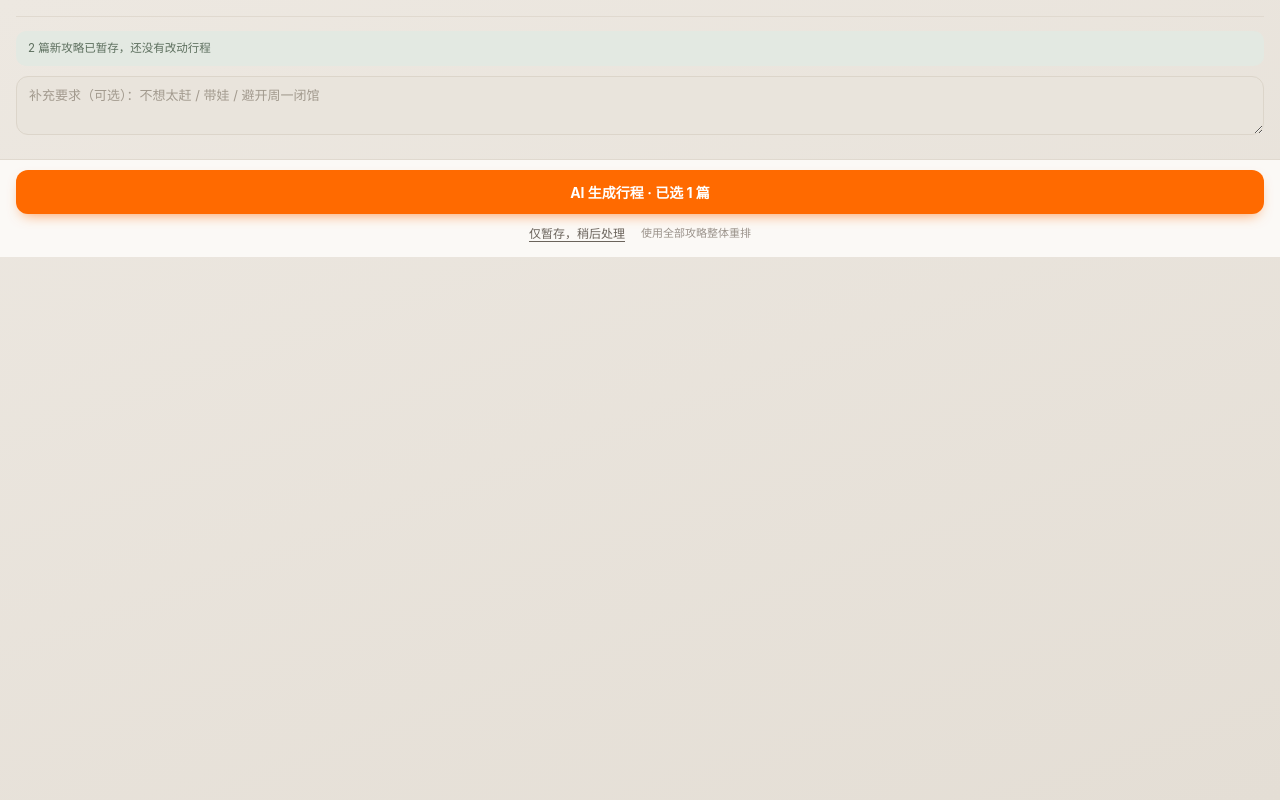
Scenario: GuideDraftPanel 次级整体重排（能力保留） › 点击先二次确认：说明素材边界，取消不发请求
Click the button "使用全部攻略整体重排".
click(696, 232)  # box [641,222,751,242]
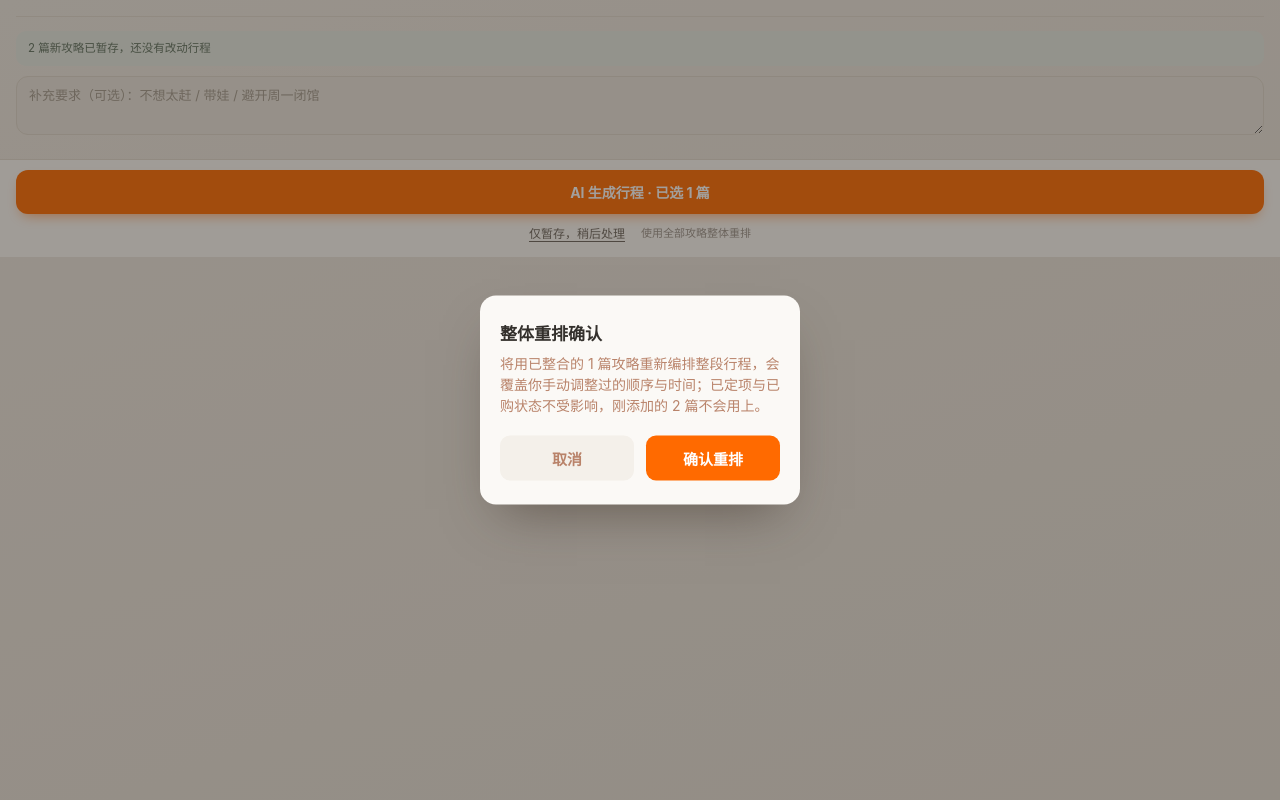
Result: the dialog "整体重排确认" shows "已整合的 1 篇攻略" at [500,354,780,414]
Result: the dialog "整体重排确认" shows "刚添加的 2 篇不会用上" at [500,354,780,414]
Click the button "取消".
click(567, 458)  # box [500,436,634,480]
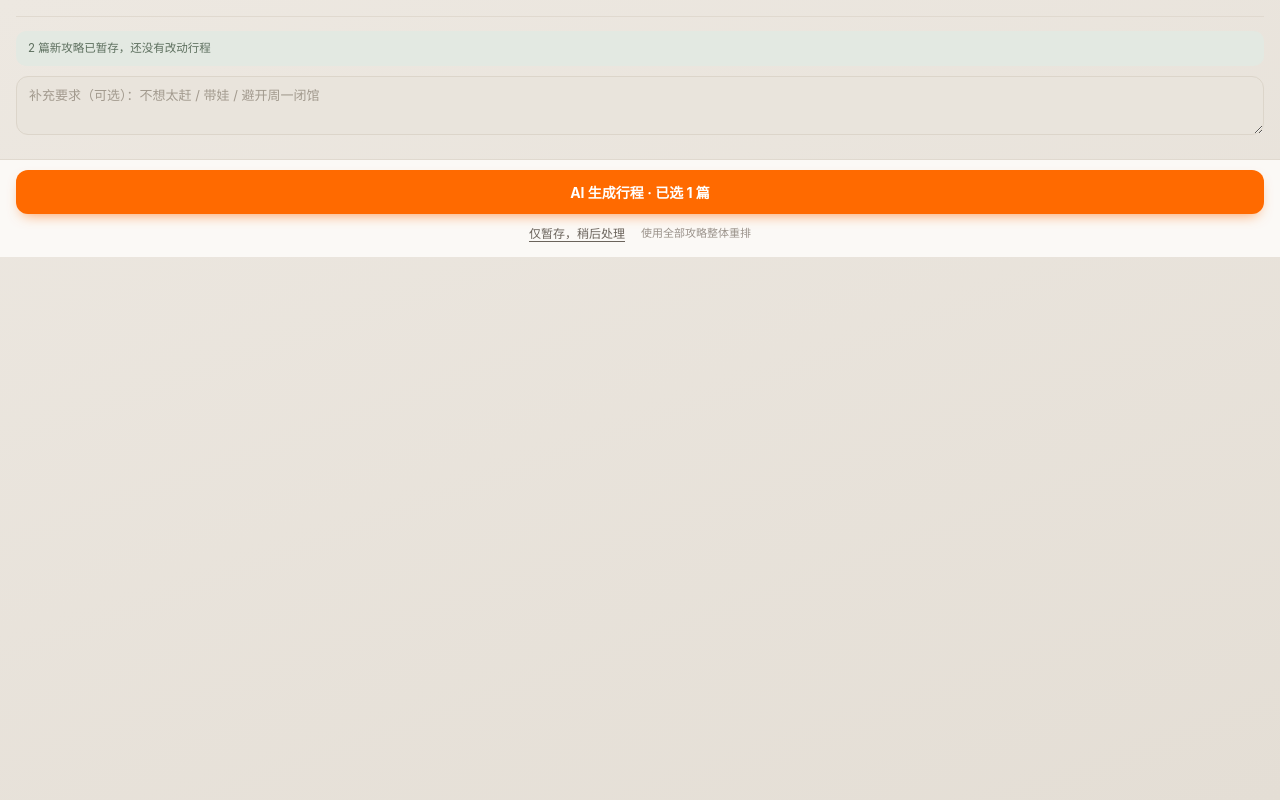
Result: the heading "整体重排确认" is gone
